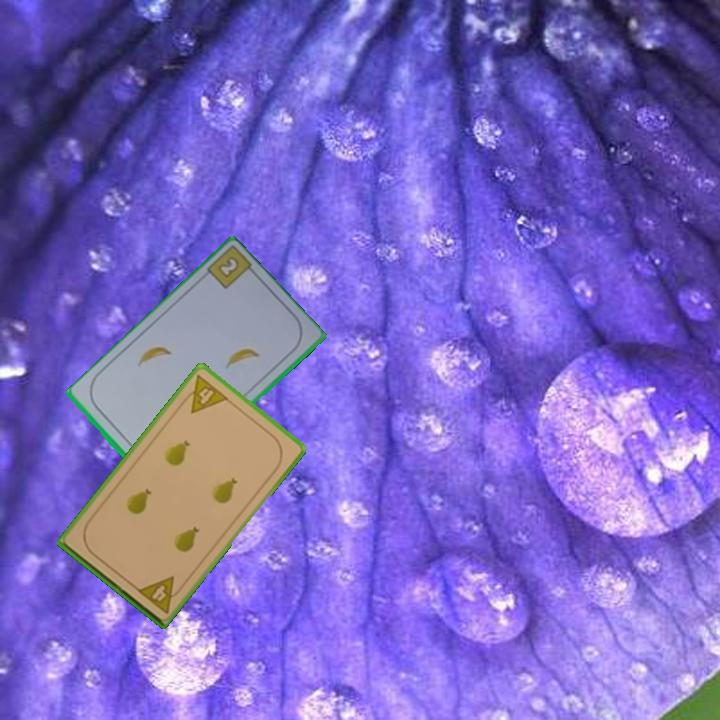2b: (214, 253, 242, 281)
4p: (177, 371, 231, 416), (133, 572, 186, 617)
